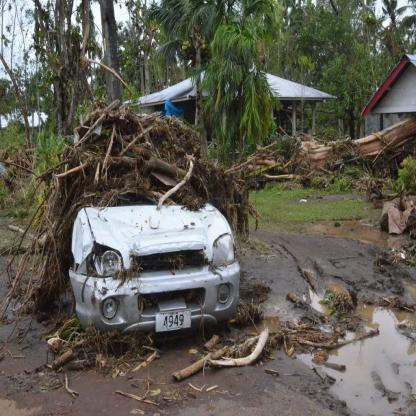Car: (70, 127, 241, 344)
